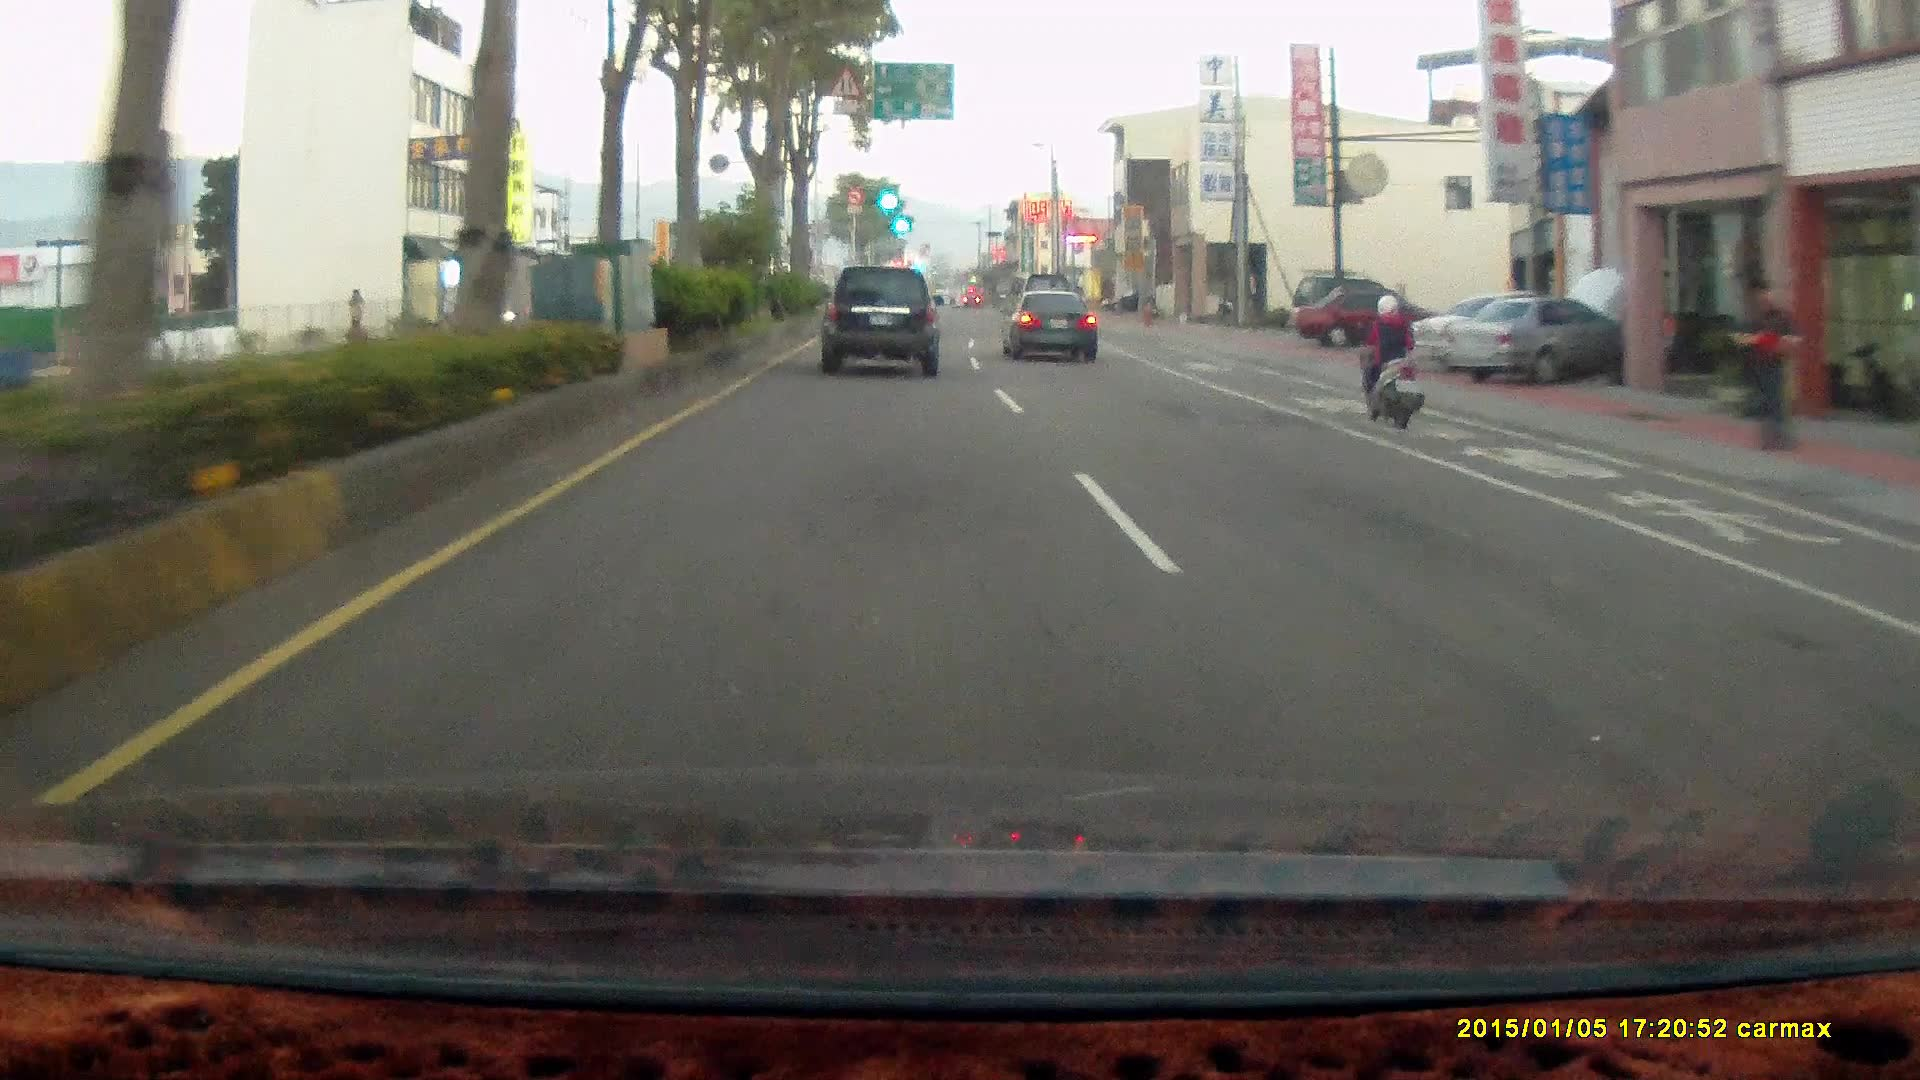pedestrian: (1733, 275, 1812, 455)
rider: (1346, 284, 1434, 437), (1353, 292, 1424, 428)
vehicle: (1444, 293, 1628, 384), (819, 267, 947, 380), (819, 265, 943, 373), (1292, 286, 1441, 351), (1291, 286, 1442, 349), (1002, 289, 1101, 363), (1000, 289, 1098, 361), (1103, 291, 1157, 312)
